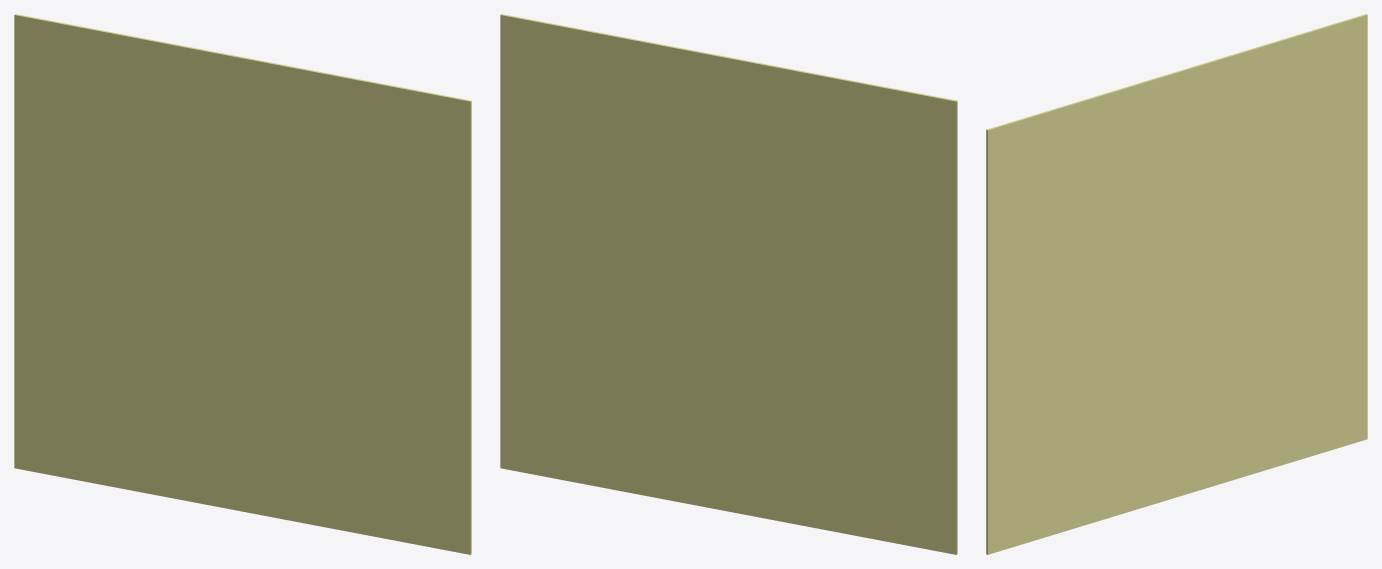
3 renders of one model, left to right at view 1: azimuth 30°, elevation 25°; view 2: azimuth 210°, elevation 25°; view 3: azimuth 270°, elevation 25°, orthographic. The views are drawn at different scales.
Parts seen in each view (by area): view 1: Площина.001; view 2: Площина.001; view 3: Площина.001.
Boxes of the visible parts, x1,y1,x2,y2 form: Площина.001: (14, 14, 471, 554); Площина.001: (500, 14, 957, 554); Площина.001: (986, 14, 1367, 554).
Size of the model in its own units: 0.3225 by 0.5477 by 0.4459.
